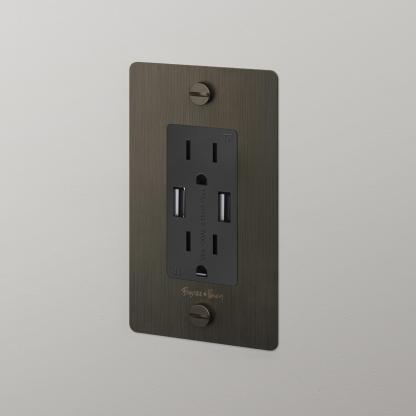OUTLET: (128, 61, 283, 356)
